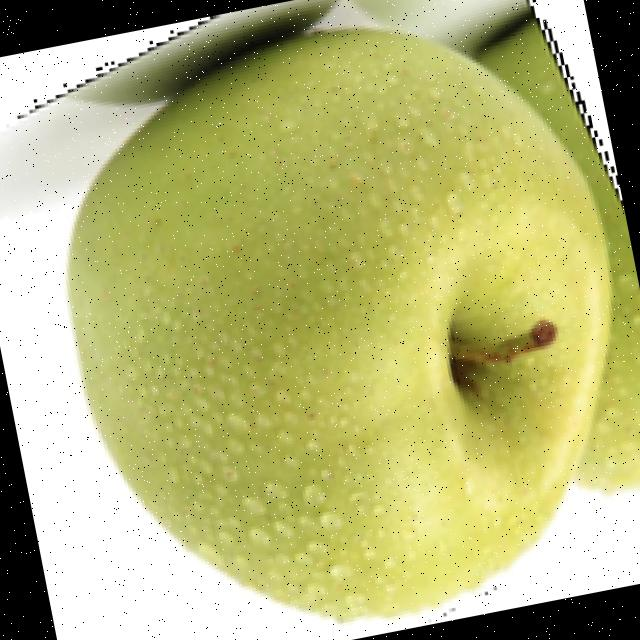apple: (15, 0, 640, 629)
